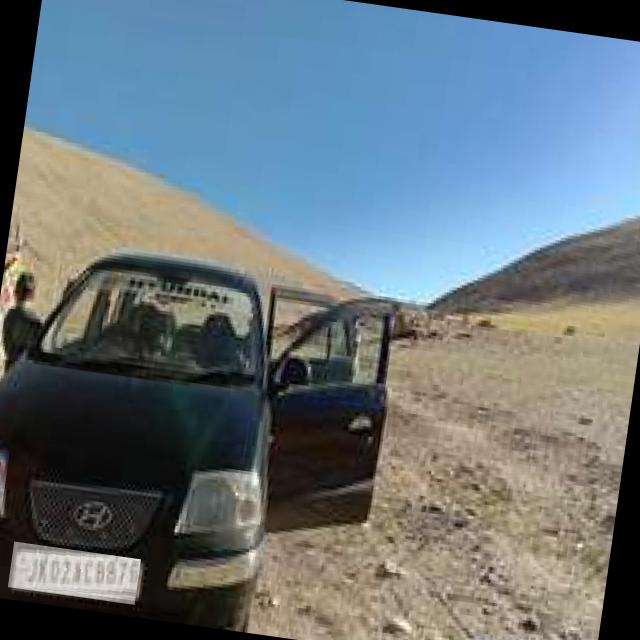Plate: (9, 543, 142, 606)
